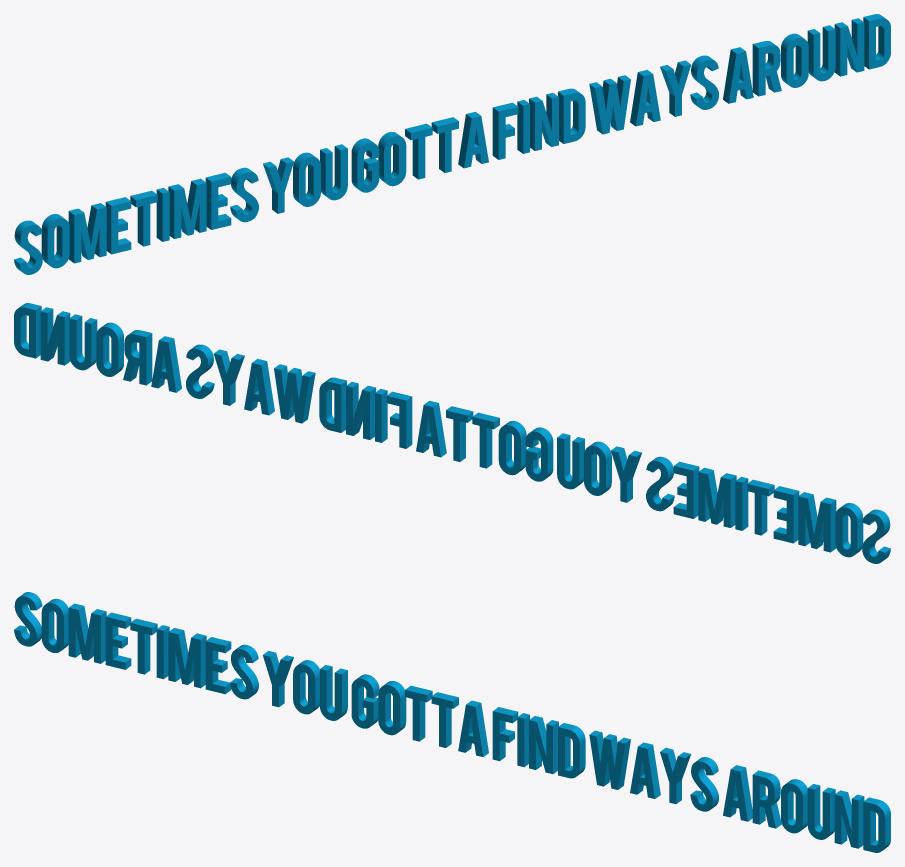
File: tinker.obj
The picture shows the model from 3 angles, top to bottom: view 1: azimuth 30°, elevation 25°; view 2: azimuth 150°, elevation 25°; view 3: azimuth 330°, elevation 25°; orthographic projection.
Parts seen in each view (by area): view 1: obj_0; view 2: obj_0; view 3: obj_0.
Part boxes in pixels (x1,y1,x2,y2): obj_0: [14, 14, 890, 274]; obj_0: [14, 303, 890, 563]; obj_0: [14, 592, 890, 852].
Bounding box in the file's own units: 488 × 26.52 × 5.62.
